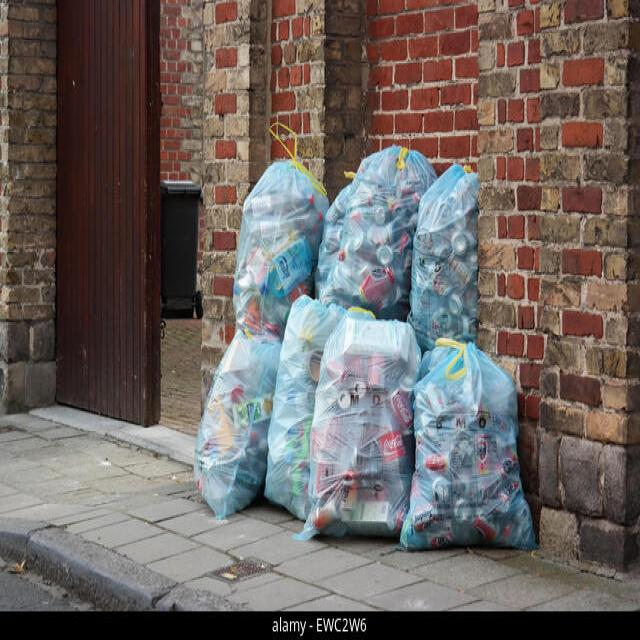trash: (186, 123, 536, 559)
